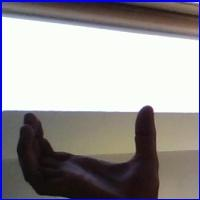space: (10, 96, 173, 195)
